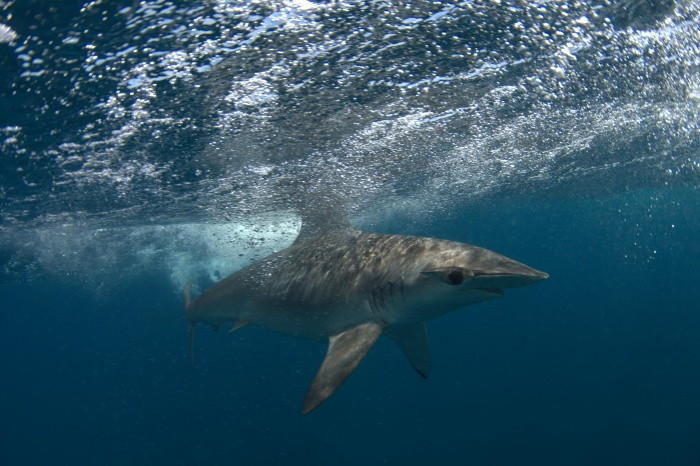Hammer: (110, 164, 571, 405)
